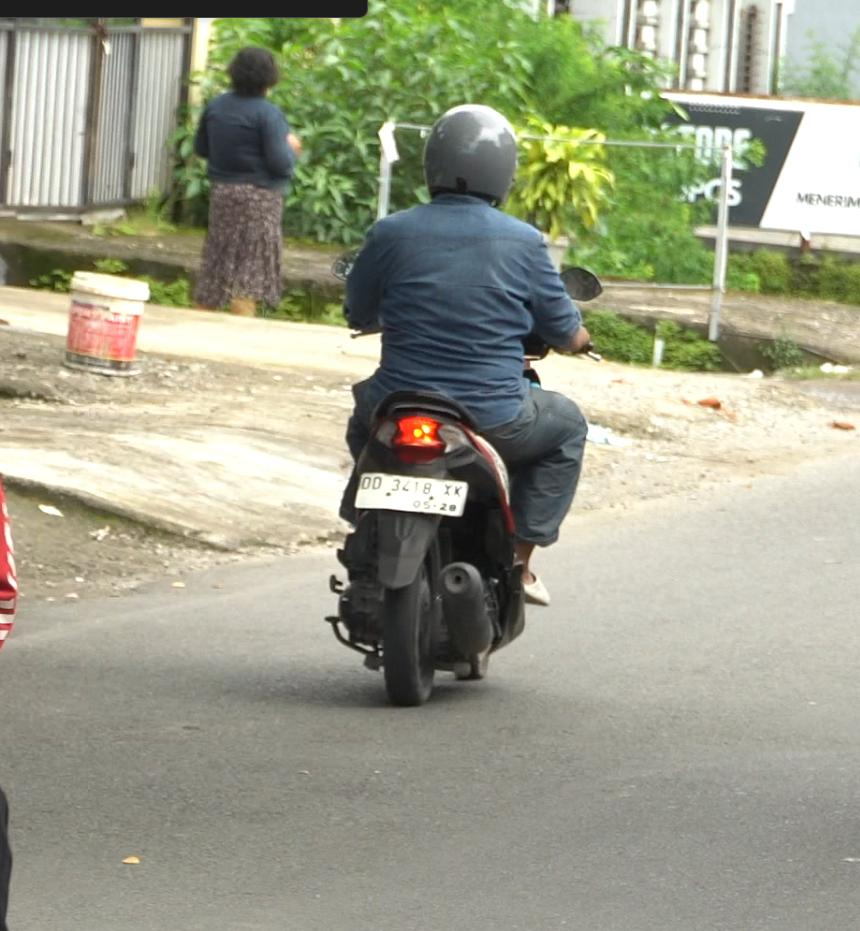number-plate: (357, 469, 467, 515)
